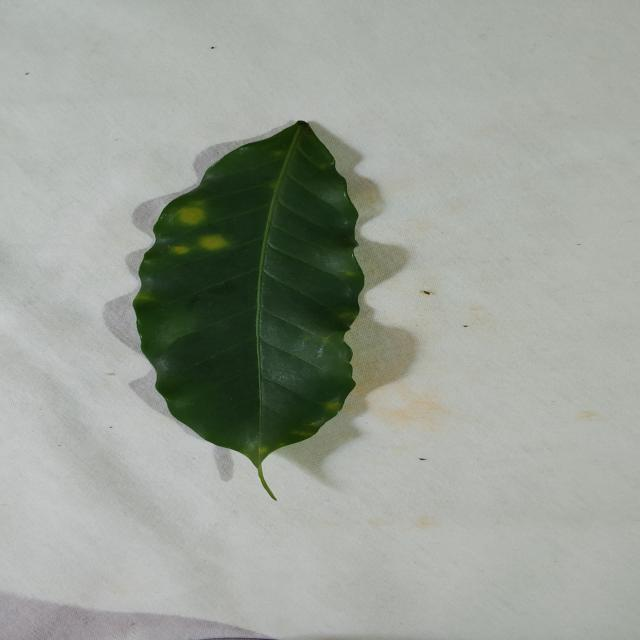Enfermedad-Roya: (130, 122, 366, 495)
